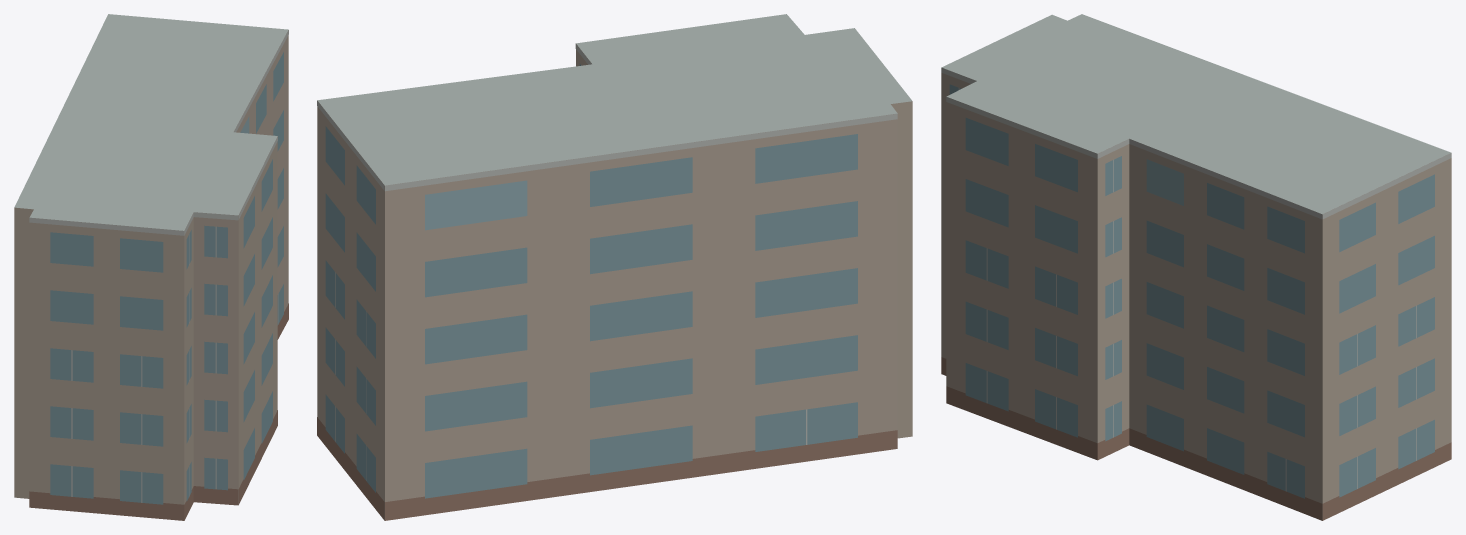
The model's file is survey-upis-32534471.glb.
3 renders of one model, left to right at view 1: azimuth 30°, elevation 25°; view 2: azimuth 150°, elevation 25°; view 3: azimuth 270°, elevation 25°, orthographic. The views are drawn at different scales.
Visible parts, largest first — view 1: survey-upis-32534471.tmp; view 2: survey-upis-32534471.tmp; view 3: survey-upis-32534471.tmp.
Boxes of the visible parts, x1,y1,x2,y2 form: survey-upis-32534471.tmp: (14,14,288,520); survey-upis-32534471.tmp: (317,14,912,520); survey-upis-32534471.tmp: (941,14,1451,520).
Bounding box in the file's own units: 20.05 × 14.3 × 21.57.
